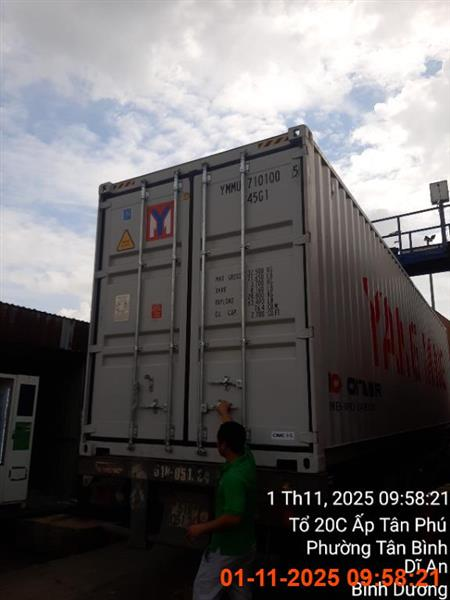broken: (77, 125, 449, 544), (185, 400, 257, 599)
